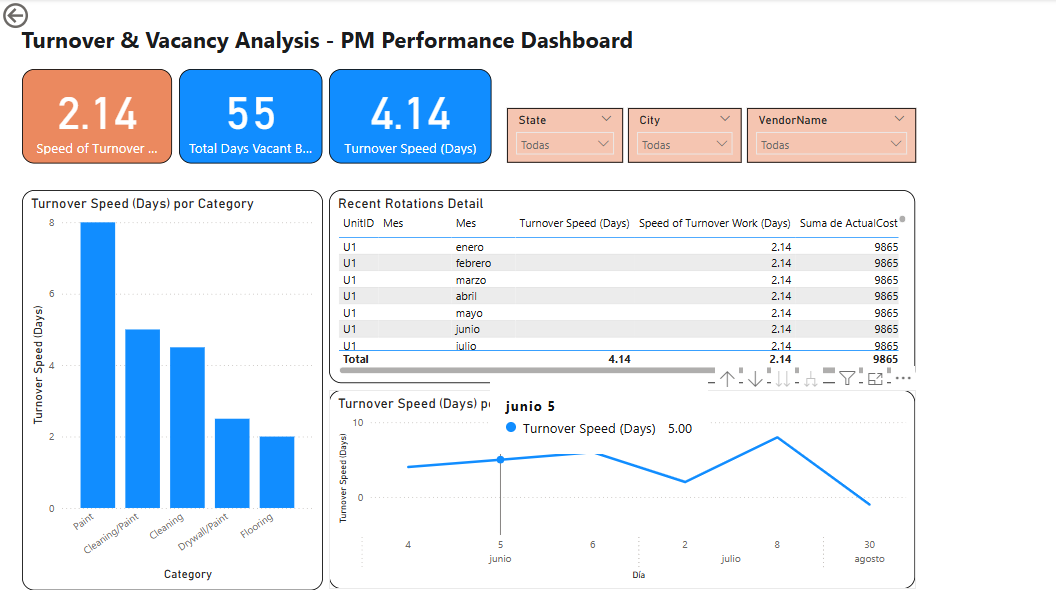

This screenshot's page, from the dashboard's own definition file:
{"tool":"powerbi","page":{"name":"Turnover & Vacancy Analysis","canvas":[1280,720],"ordinal":3},"visuals":[{"type":"textbox","box":[21.2,25.2,885.6,50.5],"z":0},{"type":"card","fields":{"Values":["WorkOrders.Speed of Turnover Work (Days)"]},"box":[27.5,84.4,181.2,113.8],"z":1000},{"type":"card","fields":{"Values":["Leases.Total Days Vacant Between Leases (Simplified)"]},"box":[217.3,84.5,172.7,113.6],"z":2000},{"type":"card","fields":{"Values":["WorkOrders.Turnover Speed (Days)"]},"box":[398.2,84.5,196.4,113.6],"z":3000},{"type":"clusteredColumnChart","fields":{"Y":["WorkOrders.Turnover Speed (Days)"],"Category":["WorkOrders.Category"]},"box":[27.5,230,362.5,482.5],"z":4000},{"type":"actionButton","box":[0,0,100,40],"z":5000},{"type":"tableEx","title":"Recent Rotations Detail","fields":{"Values":["Leases.UnitID","Leases.MoveOutDate.Variación.Jerarquía de fechas.Mes","Leases.LeaseStartDate.Variación.Jerarquía de fechas.Mes","WorkOrders.Turnover Speed (Days)","WorkOrders.Speed of Turnover Work (Days)","Sum(WorkOrders.ActualCost)"]},"box":[398.5,230.1,707.5,232.8],"z":6000},{"type":"lineChart","fields":{"Y":["WorkOrders.Turnover Speed (Days)"],"Category":["WorkOrders.VerificationDate.Variación.Jerarquía de fechas.Mes","WorkOrders.VerificationDate.Variación.Jerarquía de fechas.Día"]},"box":[398.5,471.9,707.5,240],"z":7000},{"type":"slicer","fields":{"Values":["Properties.City"]},"box":[758.4,131.6,136.8,66.3],"z":8000},{"type":"slicer","fields":{"Values":["Vendors.VendorName"]},"box":[902.4,131.8,203.5,65.9],"z":9000},{"type":"slicer","fields":{"Values":["Properties.State"]},"box":[612.5,131.6,139.7,66.3],"z":10000}]}

Visuals, with their boxes on the page's 1280x720 design canvas (x1, y1, x2, y2). These are canvas units, not pixel positions in the 1056x590 screenshot, which may show the page scaled, cropped or inside an application window:
textbox: (21, 25, 907, 76)
card - WorkOrders.Speed of Turnover Work (Days): (28, 84, 209, 198)
card - Leases.Total Days Vacant Between Leases (Simplified): (217, 84, 390, 198)
card - WorkOrders.Turnover Speed (Days): (398, 84, 595, 198)
clusteredColumnChart - WorkOrders.Turnover Speed (Days) x WorkOrders.Category: (28, 230, 390, 712)
actionButton: (0, 0, 100, 40)
"Recent Rotations Detail" tableEx: (398, 230, 1106, 463)
lineChart - WorkOrders.Turnover Speed (Days) x WorkOrders.VerificationDate.Variación.Jerarquía de fechas.Mes: (398, 472, 1106, 712)
slicer - Properties.City: (758, 132, 895, 198)
slicer - Vendors.VendorName: (902, 132, 1106, 198)
slicer - Properties.State: (612, 132, 752, 198)
